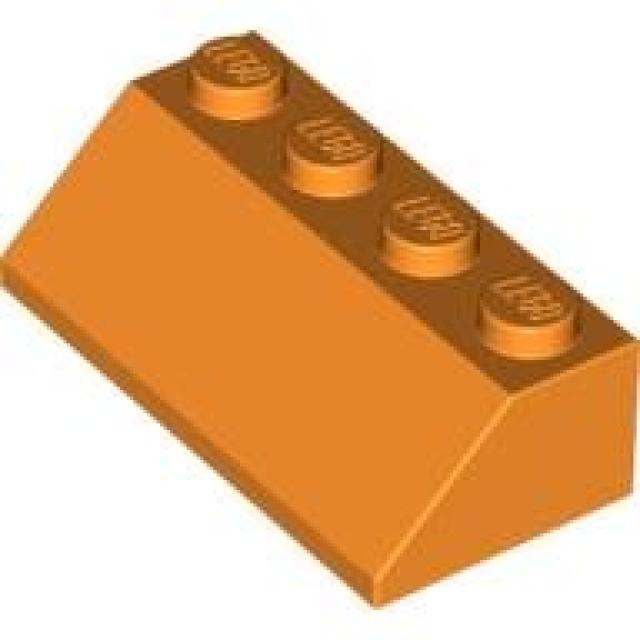Orange_Large: (0, 33, 640, 610)
